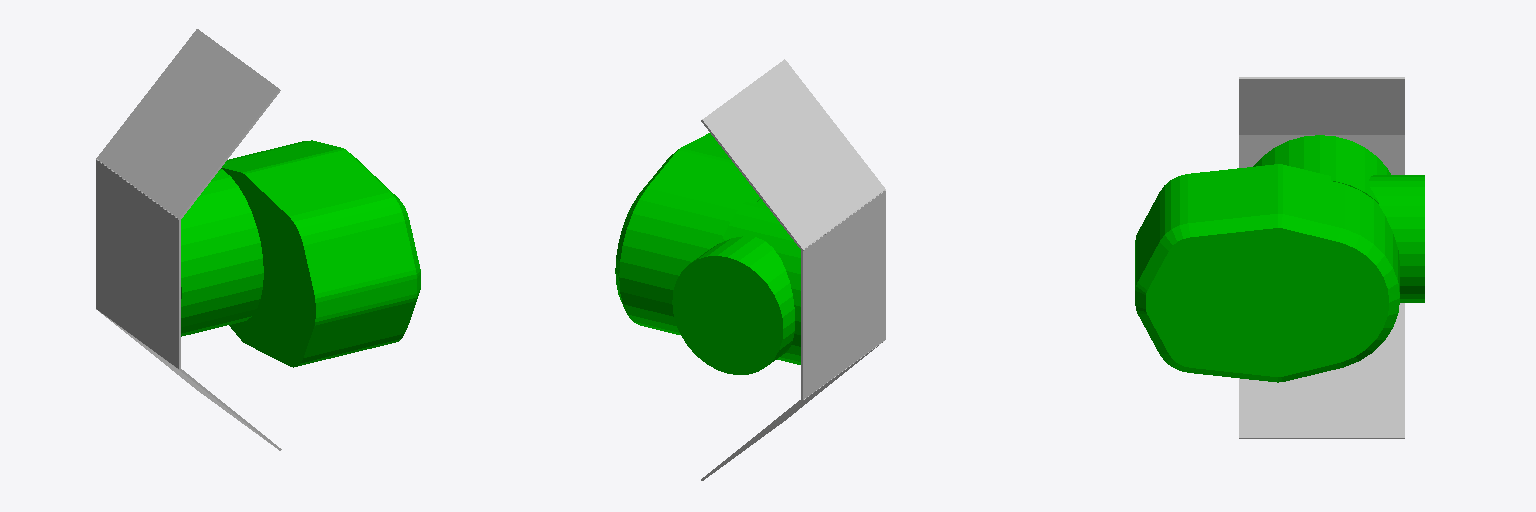
File: PINCER_HOUSING2_EDIT.obj
The picture shows the model from 3 angles: view 1: azimuth 30°, elevation 25°; view 2: azimuth 150°, elevation 25°; view 3: azimuth 270°, elevation 25°; orthographic projection.
Parts seen in each view (by area): view 1: PINCER_HOUSING2, Cube.001_Cube.003, Cube, Cube.002_Cube.004; view 2: PINCER_HOUSING2, Cube.001_Cube.003, Cube, Cube.002_Cube.004; view 3: PINCER_HOUSING2, Cube.002_Cube.004, Cube.001_Cube.003, Cube.
Part boxes in pixels (x1,y1,x2,y2): PINCER_HOUSING2: (181,140,420,367); Cube.001_Cube.003: (96,29,280,219); Cube: (96,159,180,368); Cube.002_Cube.004: (96,309,281,450); PINCER_HOUSING2: (615,133,800,374); Cube.001_Cube.003: (701,59,885,250); Cube: (801,190,885,399); Cube.002_Cube.004: (701,341,883,480); PINCER_HOUSING2: (1135,135,1424,382); Cube.002_Cube.004: (1239,303,1404,438); Cube.001_Cube.003: (1239,77,1404,134); Cube: (1239,135,1404,174).
Size of the model in its own units: 0.0555 by 0.0981 by 0.071.